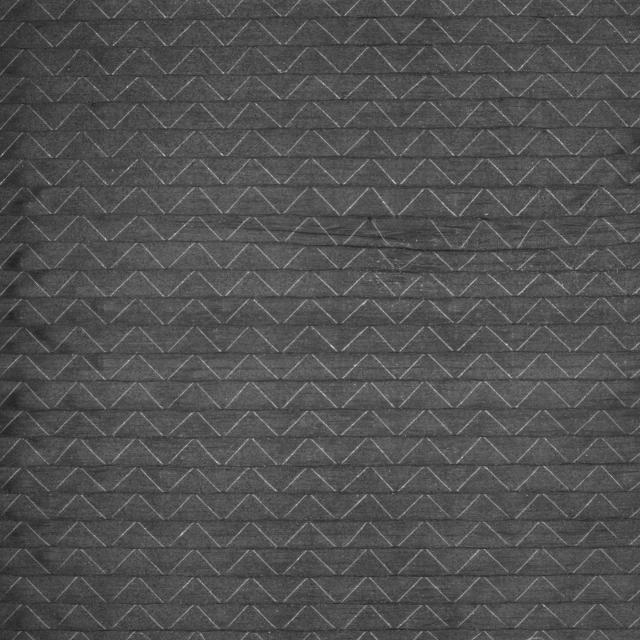carbon-fibre-defect: (351, 215, 462, 272)
